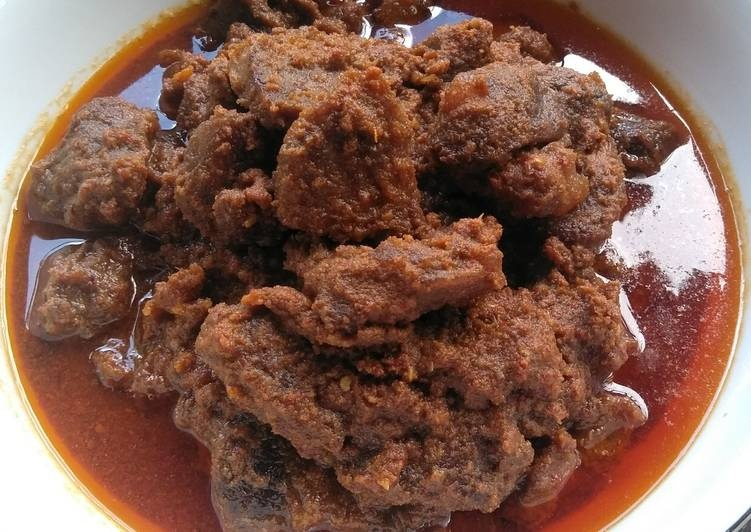rendang: (37, 37, 690, 528)
